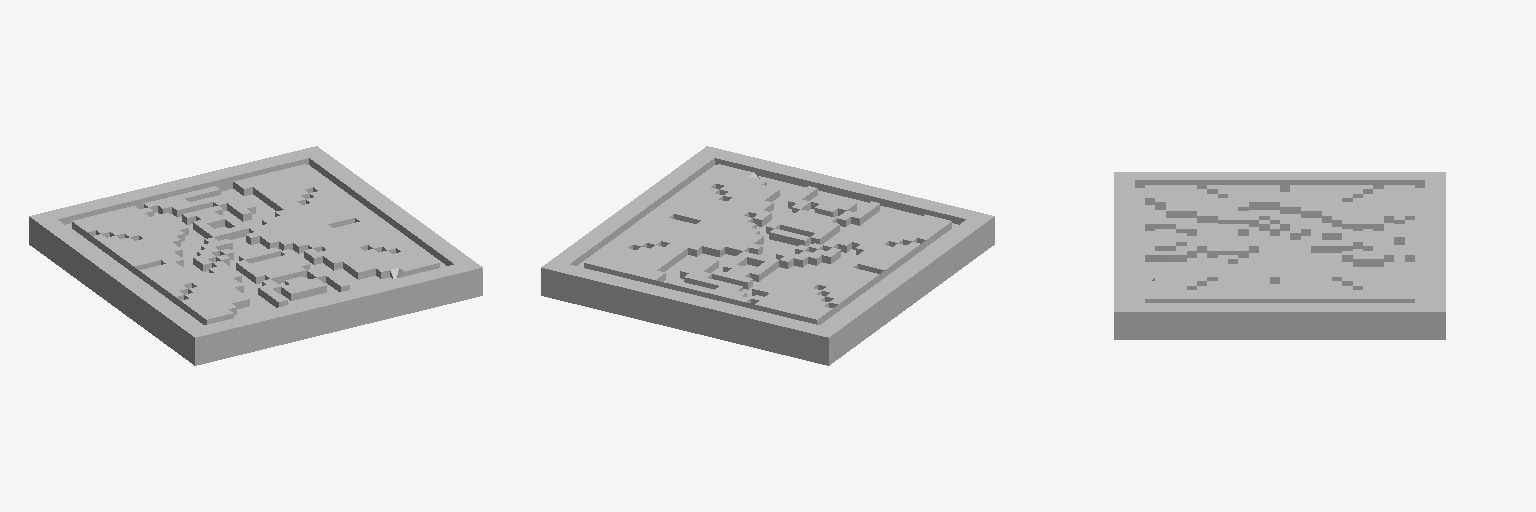
The model's file is tablet drum tight.obj.
3 views of the same model, side by side, from view 1: azimuth 30°, elevation 25°; view 2: azimuth 150°, elevation 25°; view 3: azimuth 270°, elevation 25° (orthographic).
Parts seen in each view (by area): view 1: Box002; view 2: Box002; view 3: Box002.
Boxes of the visible parts, x1=… form: Box002: x1=29, y1=146, x2=482, y2=365; Box002: x1=541, y1=146, x2=994, y2=365; Box002: x1=1114, y1=172, x2=1445, y2=339.
Size of the model in its own units: 12.6 by 1.18 by 12.6.